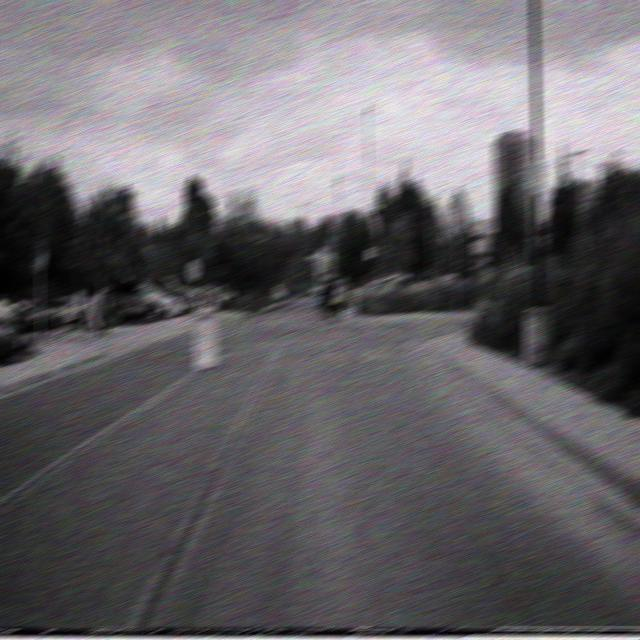stop_sign: (444, 194, 468, 234)
